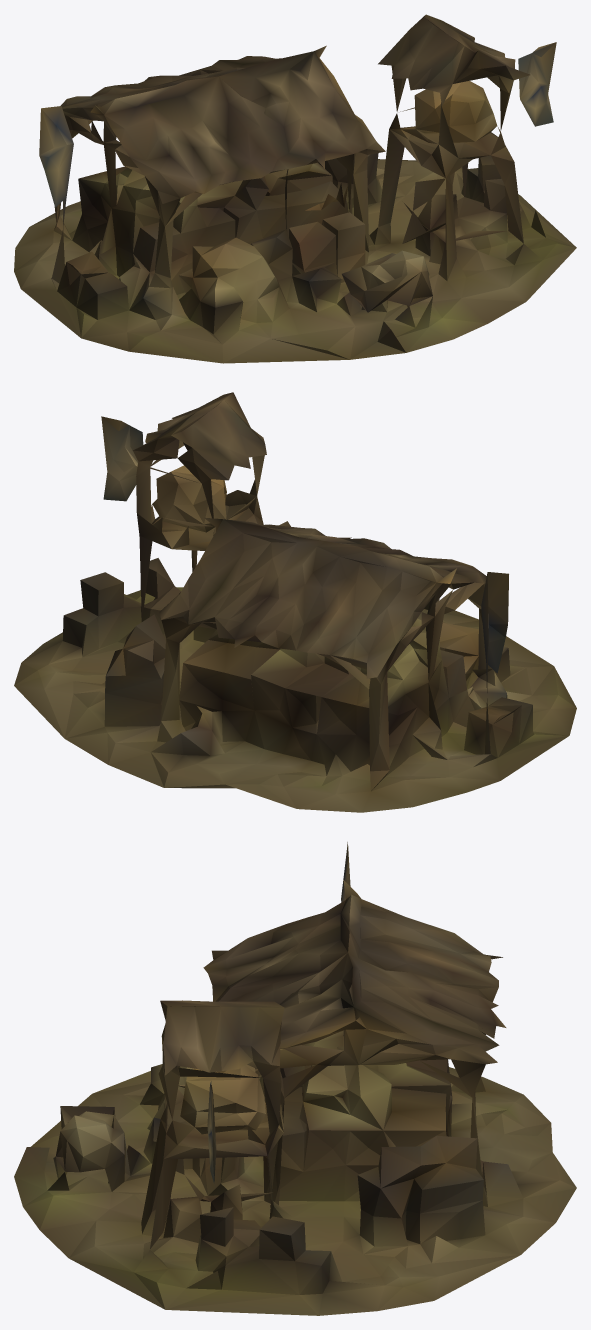
File: bq_carpentry.vc2.glb
The picture shows the model from 3 angles, top to bottom: view 1: azimuth 30°, elevation 25°; view 2: azimuth 150°, elevation 25°; view 3: azimuth 270°, elevation 25°; orthographic projection. The views are drawn at different scales.
Visible parts, largest first — view 1: bq_carpentry; view 2: bq_carpentry; view 3: bq_carpentry.
Part boxes in pixels (left/top/right/bottom): bq_carpentry: left=14, top=14, right=576, bottom=363; bq_carpentry: left=14, top=392, right=576, bottom=812; bq_carpentry: left=14, top=842, right=576, bottom=1315.
Bounding box in the file's own units: 1.87 × 0.8368 × 1.7.
